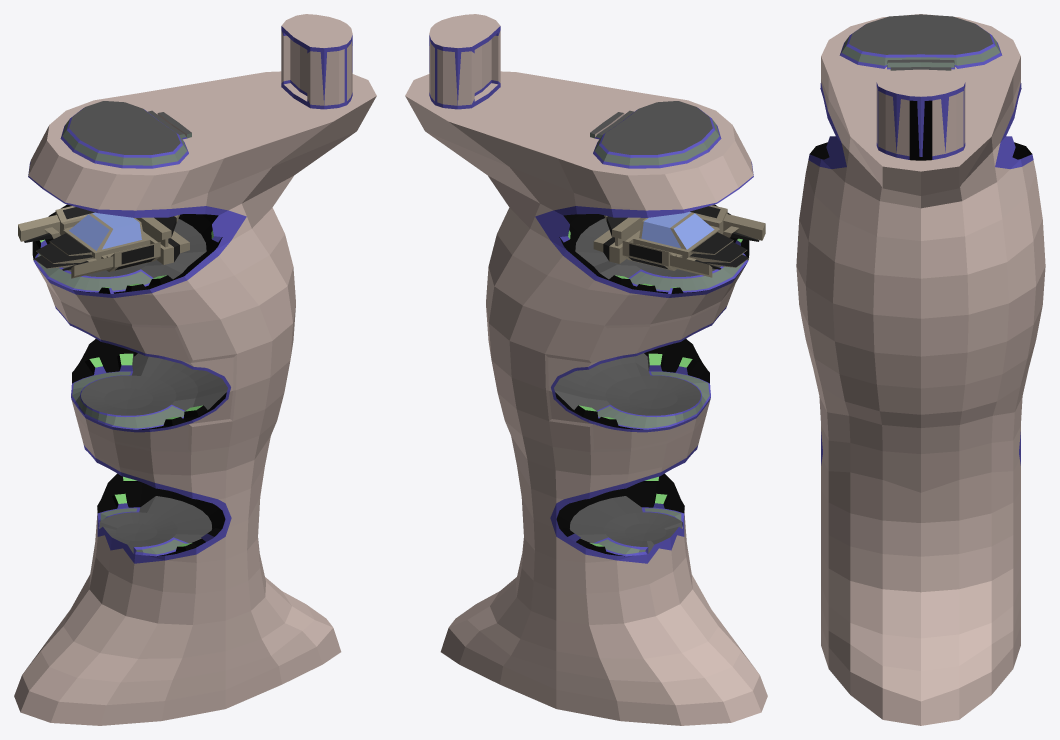
File: Spaceport_2_MC.fbx
3 renders of one model, left to right at view 1: azimuth 30°, elevation 25°; view 2: azimuth 150°, elevation 25°; view 3: azimuth 270°, elevation 25°, orthographic. The views are drawn at different scales.
Parts seen in each view (by area): view 1: tour, vaisseau 1; view 2: tour, vaisseau 1; view 3: tour.
Part boxes in pixels (<box>): tour: <box>14,14,376,725</box>; vaisseau 1: <box>18,206,189,278</box>; tour: <box>405,14,767,725</box>; vaisseau 1: <box>593,205,765,277</box>; tour: <box>796,14,1045,725</box>.
Bounding box in the file's own units: 1260 × 2107 × 749.
